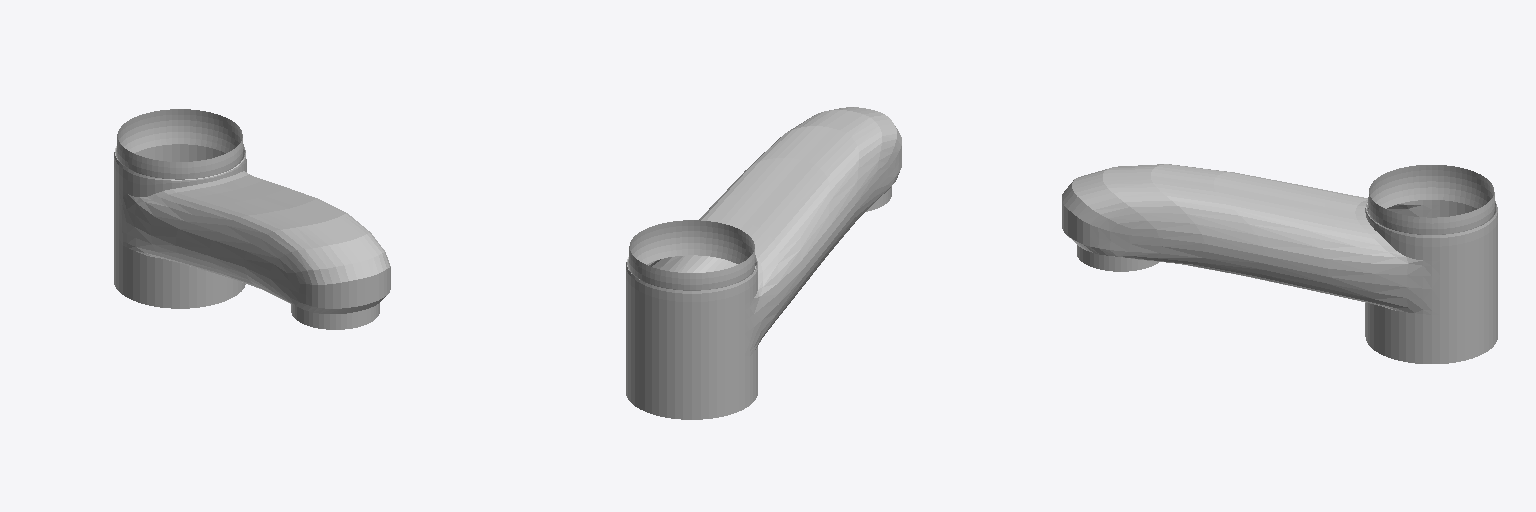
File: sink_faucet.obj
3 views of the same model, side by side, from view 1: azimuth 30°, elevation 25°; view 2: azimuth 150°, elevation 25°; view 3: azimuth 270°, elevation 25° (orthographic).
Parts seen in each view (by area): view 1: Faucet; view 2: Faucet; view 3: Faucet.
Part boxes in pixels (x1,y1,x2,y2): Faucet: (114,109,390,329); Faucet: (626,107,901,419); Faucet: (1062,164,1497,363).
Bounding box in the file's own units: 8.47 × 11.2 × 27.58.